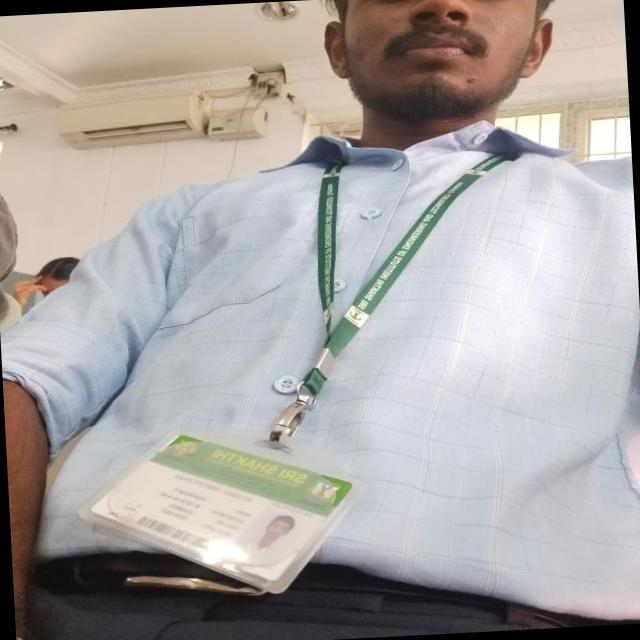id_card: (58, 132, 530, 599)
